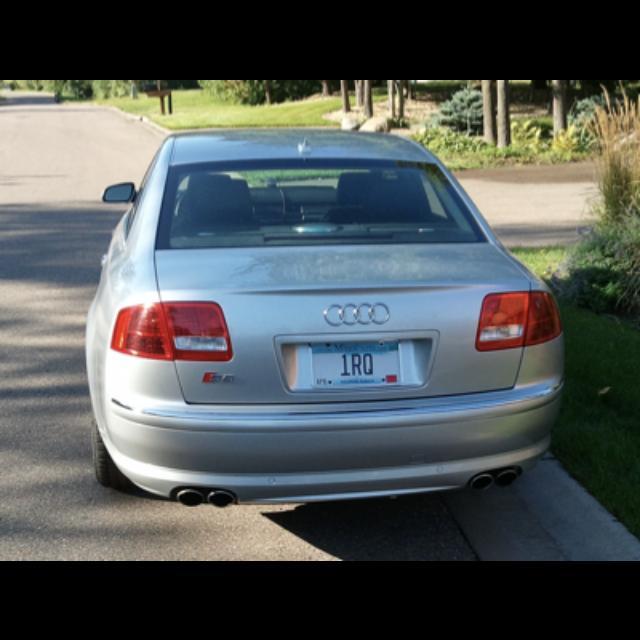carPlate: (312, 342, 401, 384)
